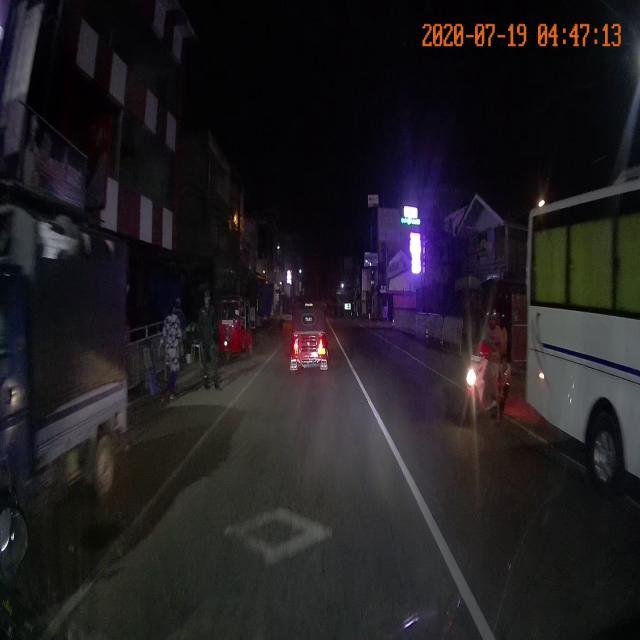diamond: (100, 501, 466, 585)
